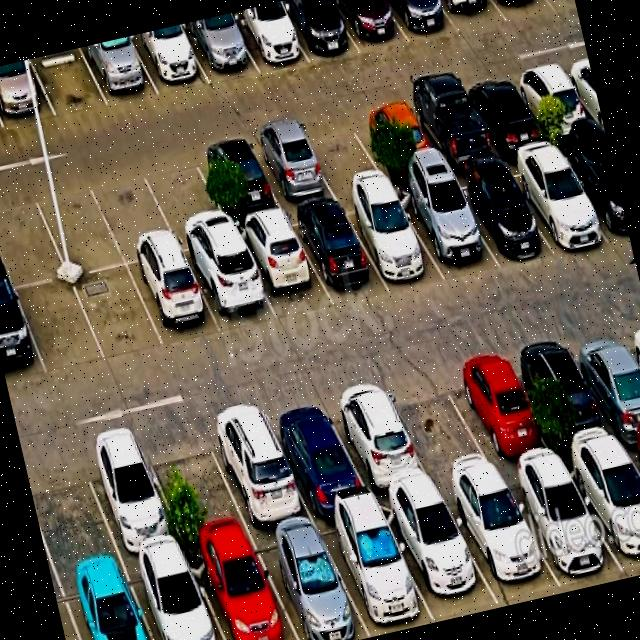empty: (378, 360, 500, 491), (137, 420, 250, 548), (23, 443, 121, 578), (138, 150, 234, 252), (30, 175, 125, 276), (88, 164, 180, 264), (72, 265, 164, 362), (15, 278, 105, 375), (296, 114, 386, 194), (0, 187, 67, 287), (30, 47, 108, 116)
occupied: (315, 506, 434, 637), (200, 399, 313, 533), (441, 477, 561, 603), (502, 463, 623, 587), (379, 494, 499, 619), (442, 346, 558, 475), (75, 430, 185, 561), (249, 522, 370, 640), (320, 376, 436, 499), (260, 392, 372, 517), (512, 331, 622, 458), (186, 536, 297, 640), (501, 147, 610, 252), (393, 179, 500, 281), (445, 165, 551, 267), (233, 214, 332, 322), (287, 201, 388, 305), (340, 191, 445, 289), (563, 445, 640, 577), (564, 321, 640, 443), (124, 550, 224, 640), (127, 253, 221, 348), (183, 242, 277, 333), (555, 136, 630, 243), (403, 87, 498, 171), (191, 137, 283, 223), (246, 125, 336, 208), (350, 101, 441, 179), (59, 564, 152, 640), (460, 73, 547, 152), (509, 61, 596, 139), (129, 24, 210, 95), (227, 3, 309, 72), (80, 36, 158, 105), (181, 14, 258, 83), (276, 0, 359, 62), (0, 285, 46, 385), (332, 0, 408, 53), (0, 59, 55, 127), (386, 0, 458, 42), (437, 0, 507, 34), (493, 0, 555, 21)
